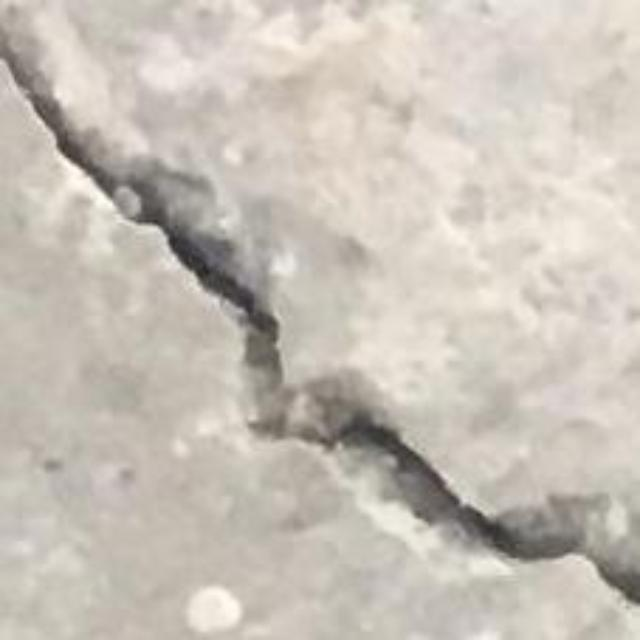crack: (0, 29, 639, 603)
